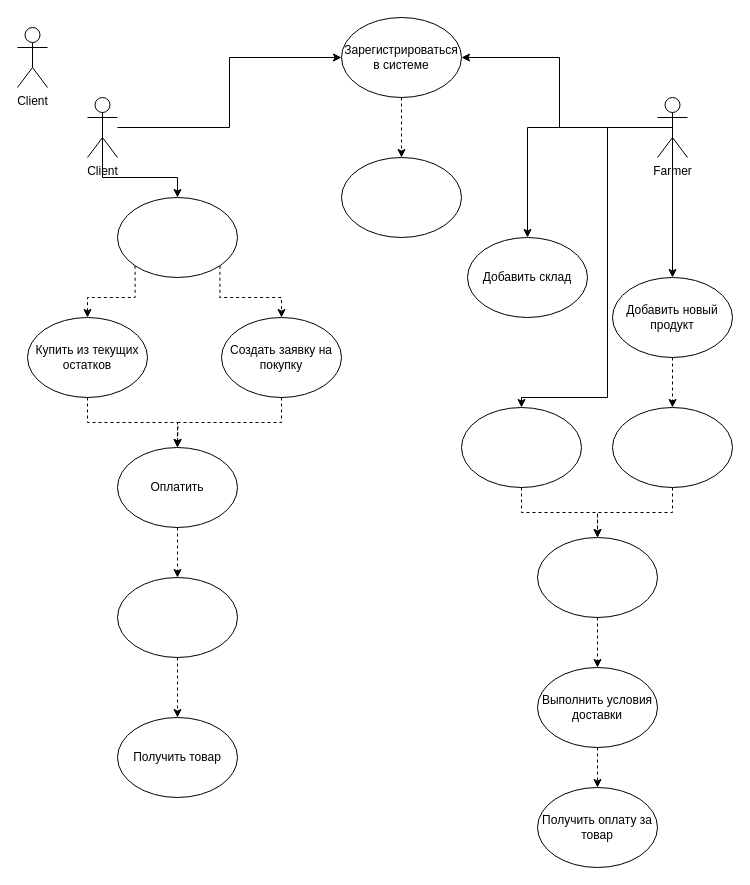
This 750x885 diagram has some shape labels left out. Here are the shapes that lost their labels. From the top down, the centre of each, then its label:
At [401,197]: "Добавить свои данные".
At [177,237]: "Открыть список товаров".
At [521,447]: "Продать товар из остатков".
At [672,447]: "Создать заявку на продажу".
At [597,577]: "Заключить сделку".
At [177,617]: "Выбрать способ доставки".
